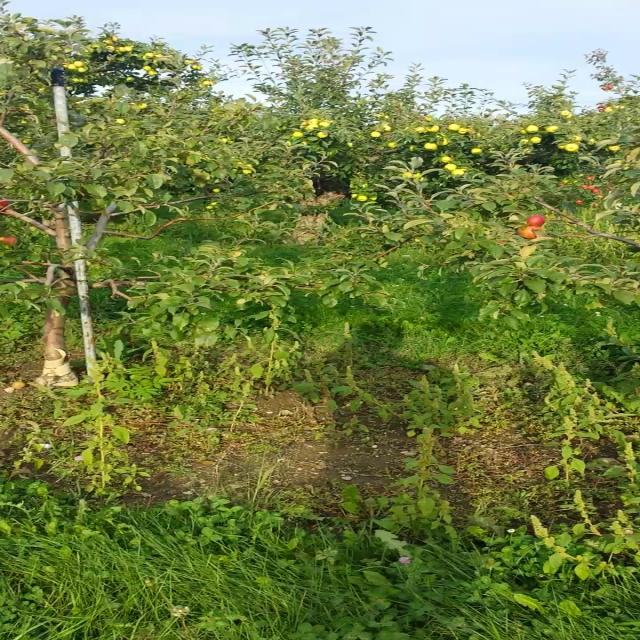apple: (516, 226, 543, 238), (528, 213, 547, 225), (0, 235, 16, 247), (1, 196, 11, 208)
